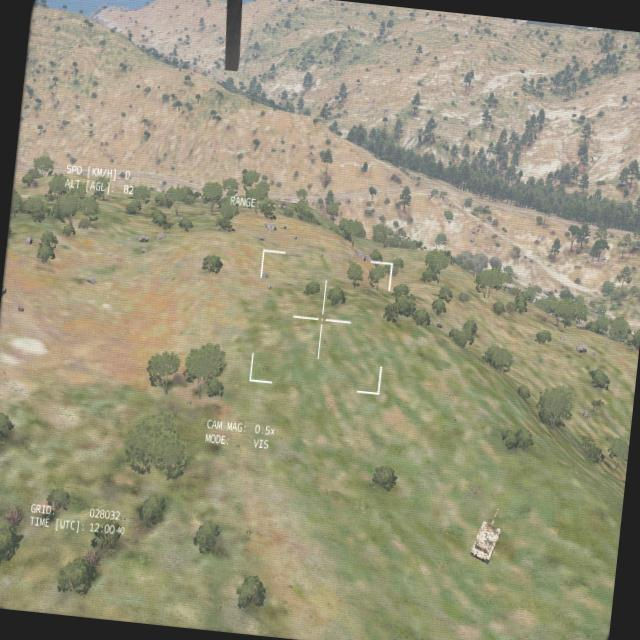tank: (467, 504, 504, 566)
